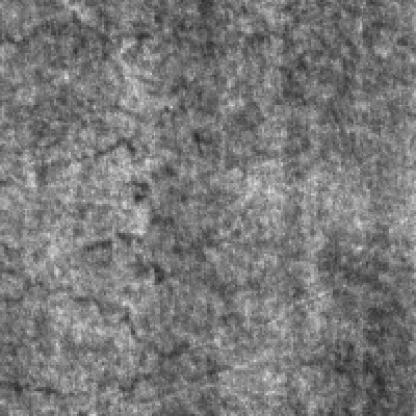crazing: (27, 136, 187, 360), (13, 10, 160, 210)
